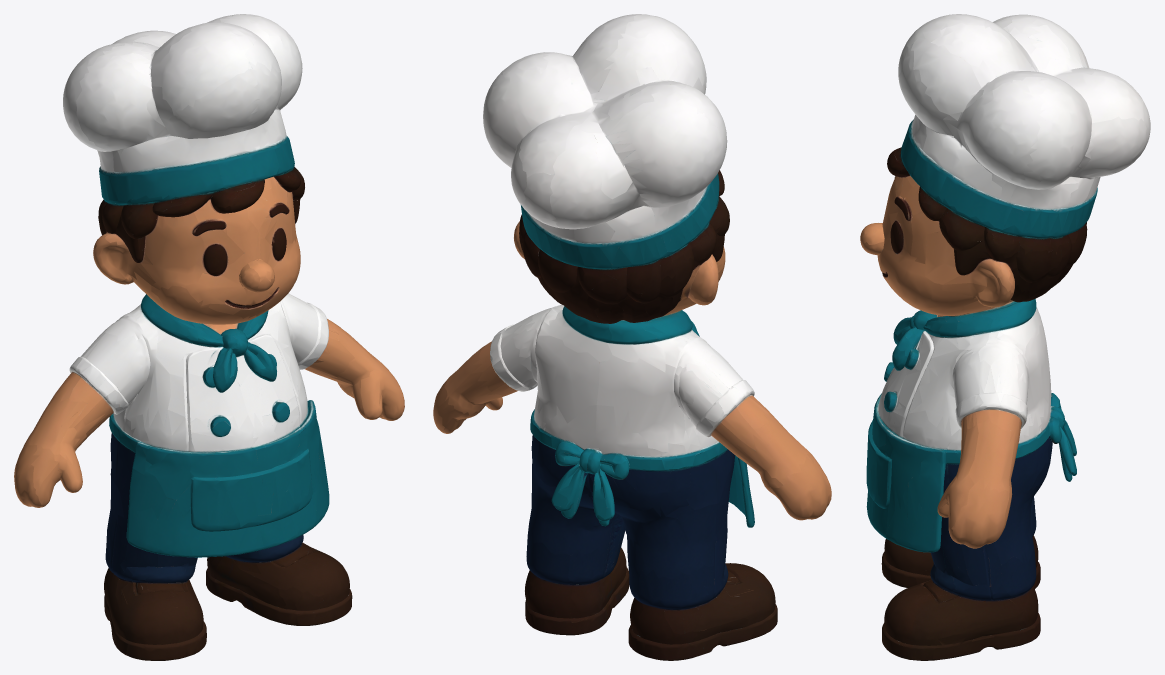
File: Meshy_AI_Tiny_Chef_Mascot_1004162827_texture.glb
The picture shows the model from 3 angles, left to right: view 1: azimuth 30°, elevation 25°; view 2: azimuth 150°, elevation 25°; view 3: azimuth 270°, elevation 25°; orthographic projection.
Parts seen in each view (by area): view 1: output_unwrapped; view 2: output_unwrapped; view 3: output_unwrapped.
Boxes of the visible parts, x1,y1,x2,y2 form: output_unwrapped: [14, 14, 404, 660]; output_unwrapped: [433, 14, 831, 660]; output_unwrapped: [860, 14, 1150, 660].
Bounding box in the file's own units: 1.3 × 1.9 × 0.853.
Materials: 1 (1 with a texture image).
